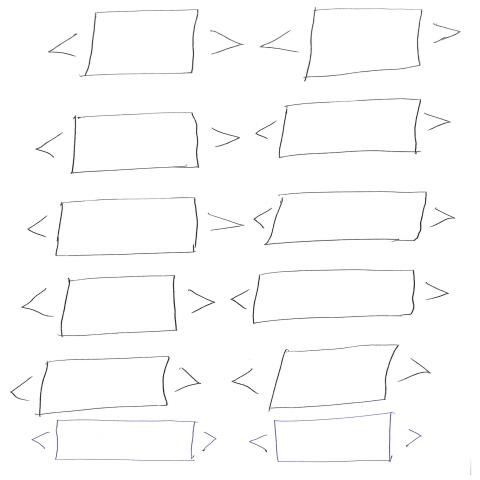Carousel: (258, 8, 462, 81), (48, 9, 245, 78), (27, 197, 246, 258), (231, 345, 433, 410), (34, 112, 241, 175), (230, 269, 451, 326), (21, 275, 216, 338), (255, 99, 454, 159), (9, 356, 202, 416), (254, 191, 456, 247), (247, 412, 424, 464), (31, 419, 218, 463)
